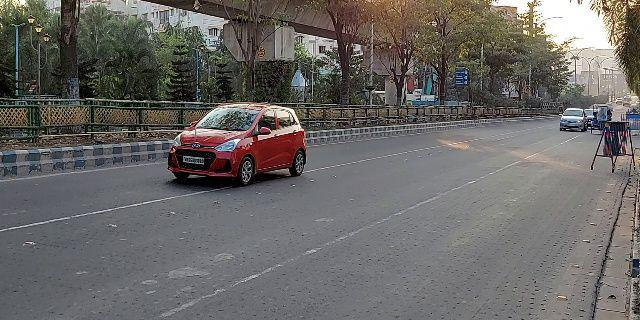Car: (166, 97, 311, 190), (558, 104, 588, 135)
